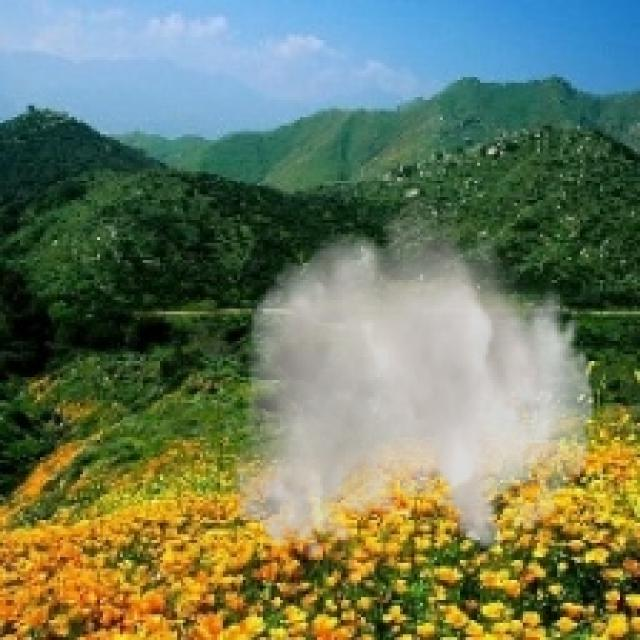smoke: (232, 186, 594, 560)
